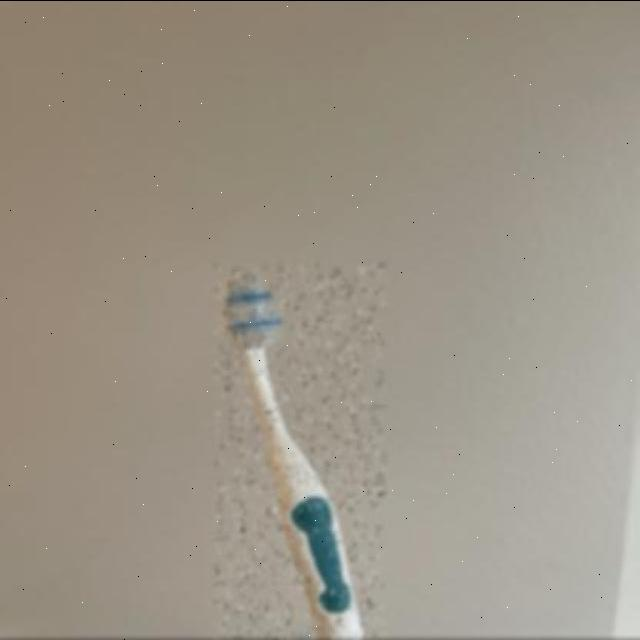toothbrush: (216, 264, 384, 640)
